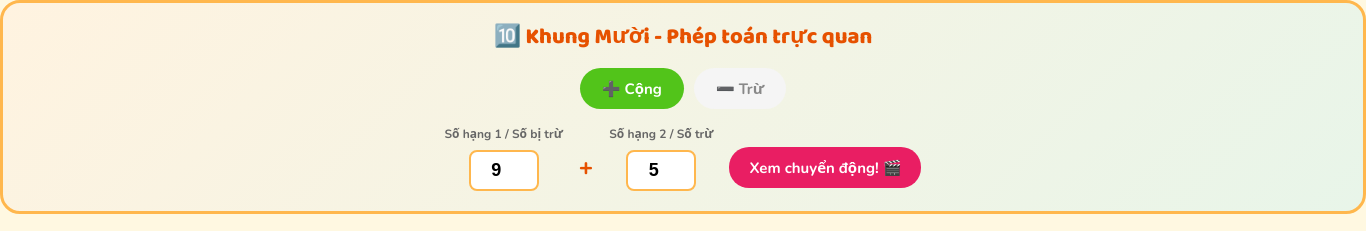
Test: TenFrames visualizer › renders inputs and handles mode toggling
The width and height of the screenshot is (1366, 231).
# Switch to subtract
Click the button with test id "btn-mode-subtract" at (740, 88), box [694,68,786,109]
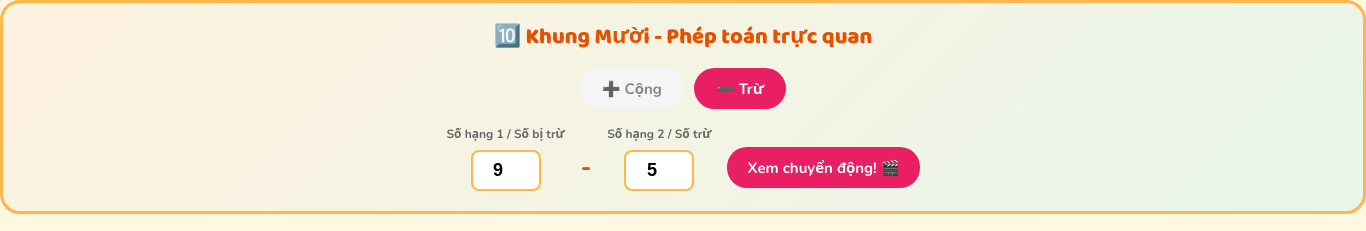
expect the text "-" is shown: met, box [581,148,591,187]
